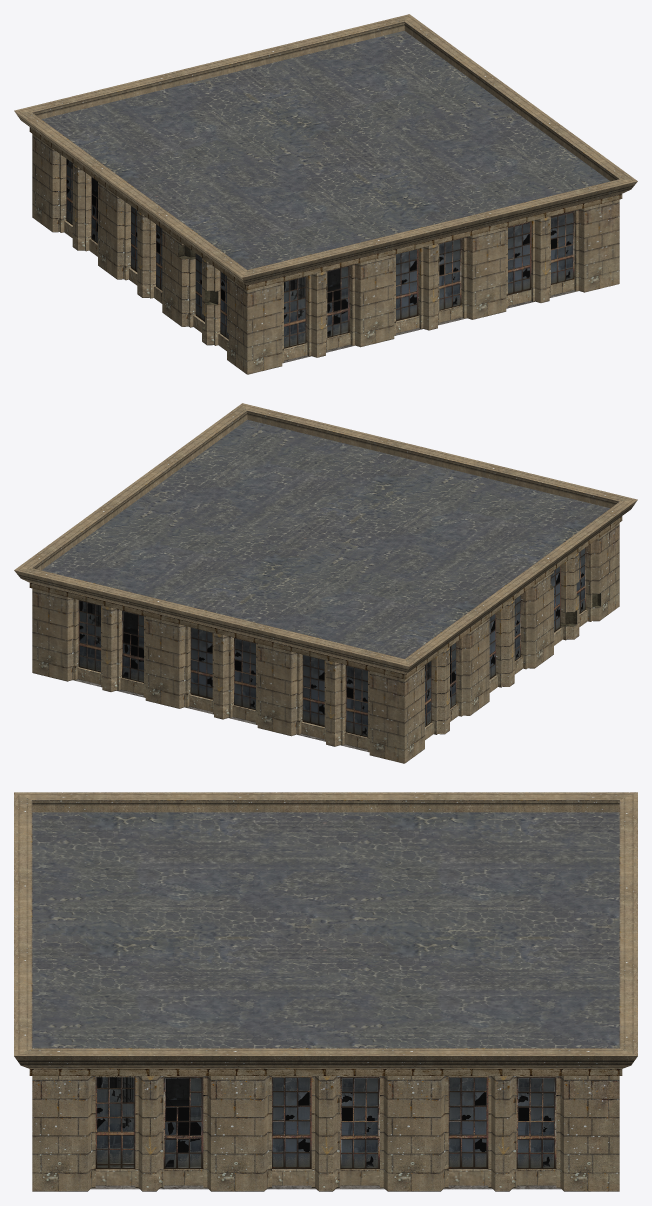
The model's file is Build1_el6.fbx.
3 views of the same model, one above another, from view 1: azimuth 30°, elevation 25°; view 2: azimuth 150°, elevation 25°; view 3: azimuth 270°, elevation 25° (orthographic). The views are drawn at different scales.
Visible parts, largest first — view 1: 5_floor2; view 2: 5_floor2; view 3: 5_floor2.
Boxes of the visible parts, left/top/right/bottom form: 5_floor2: left=14, top=14, right=637, bottom=374; 5_floor2: left=14, top=403, right=637, bottom=763; 5_floor2: left=14, top=792, right=637, bottom=1191.
Size of the model in its own units: 15.05 by 3.99 by 15.05.
